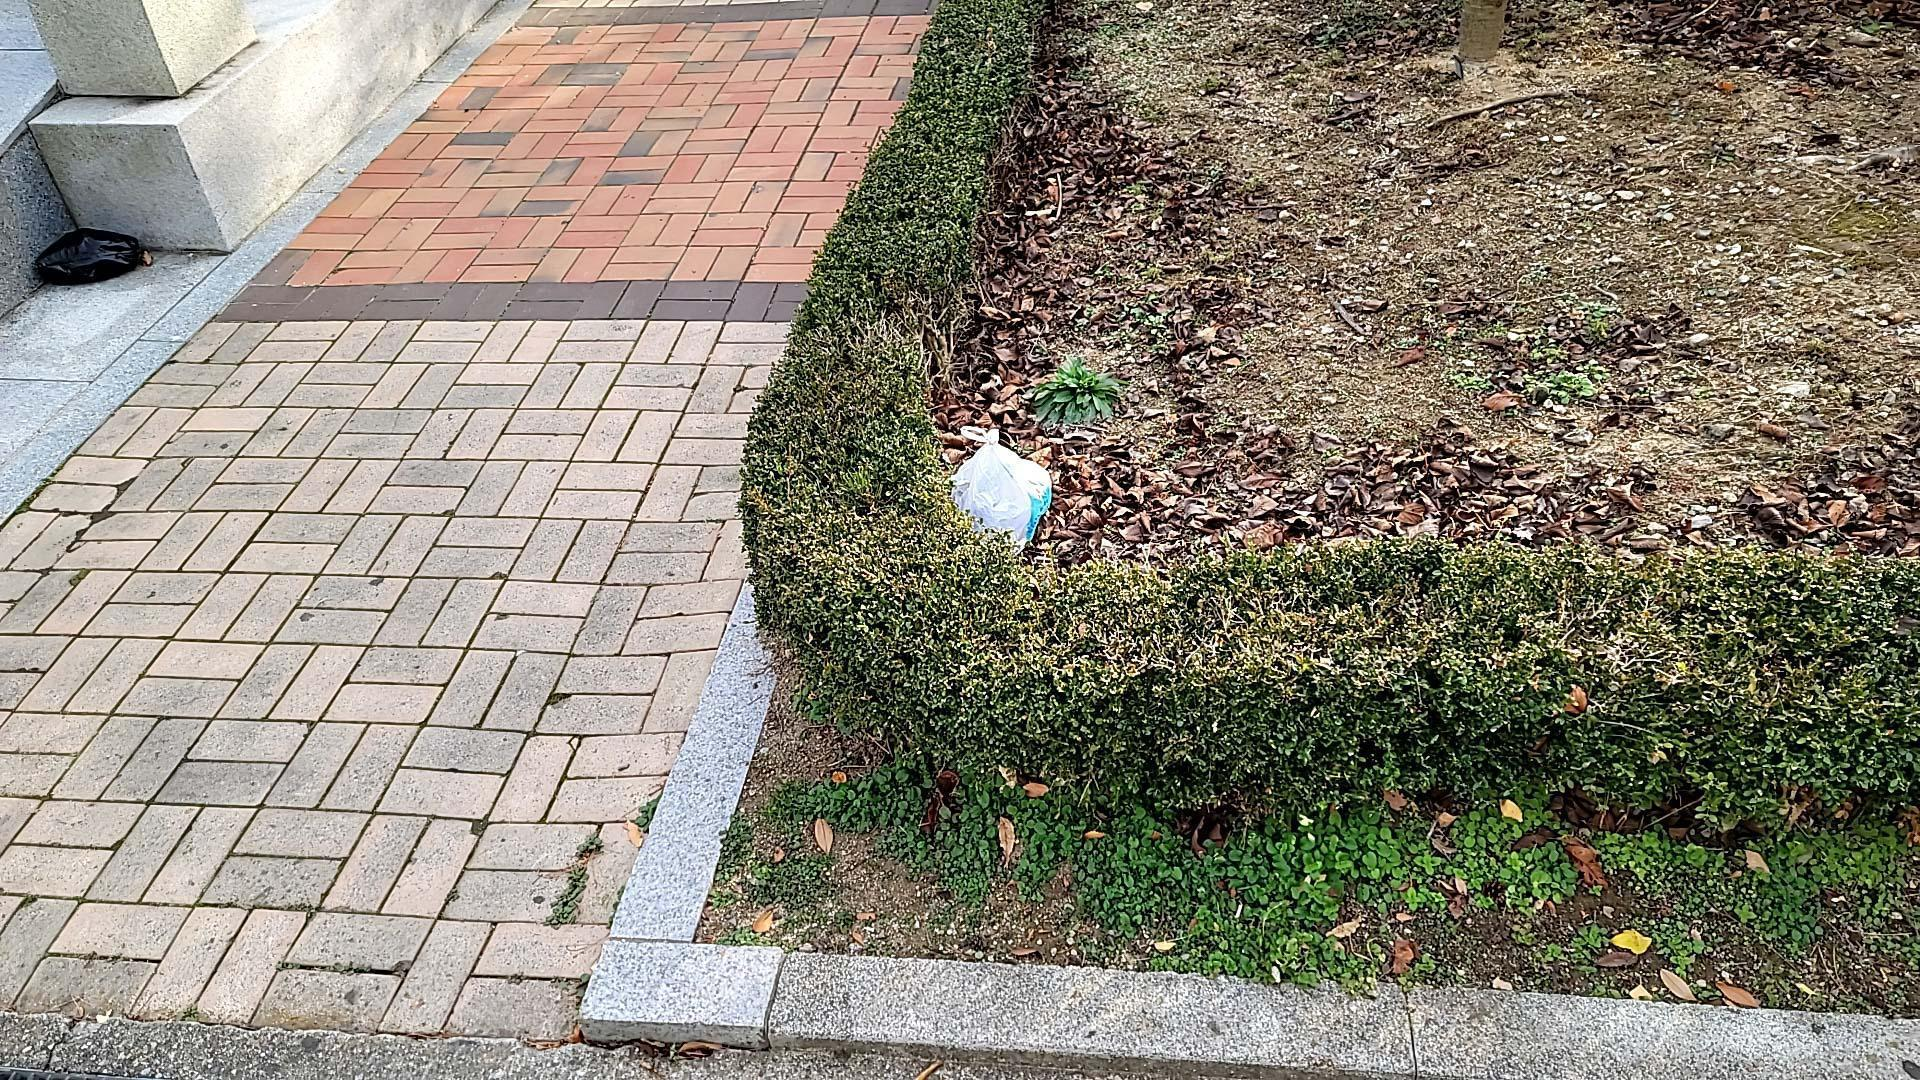white_bag: (942, 414, 1058, 556)
